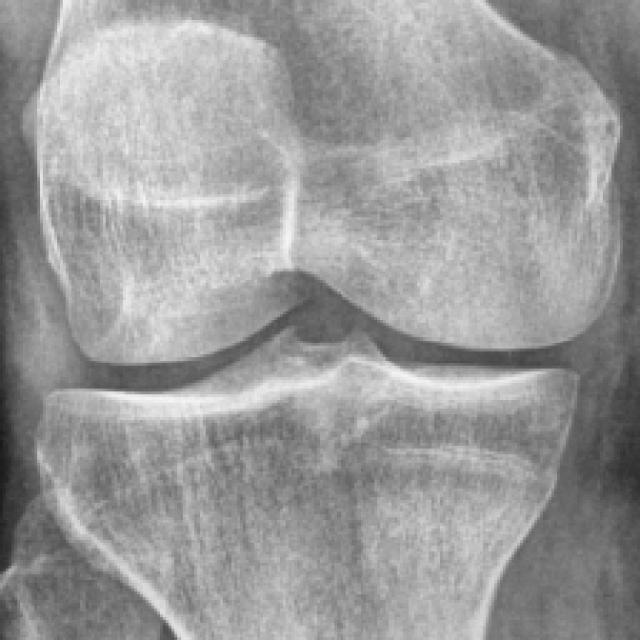femur: (36, 0, 622, 367)
tibia: (33, 354, 582, 640)
